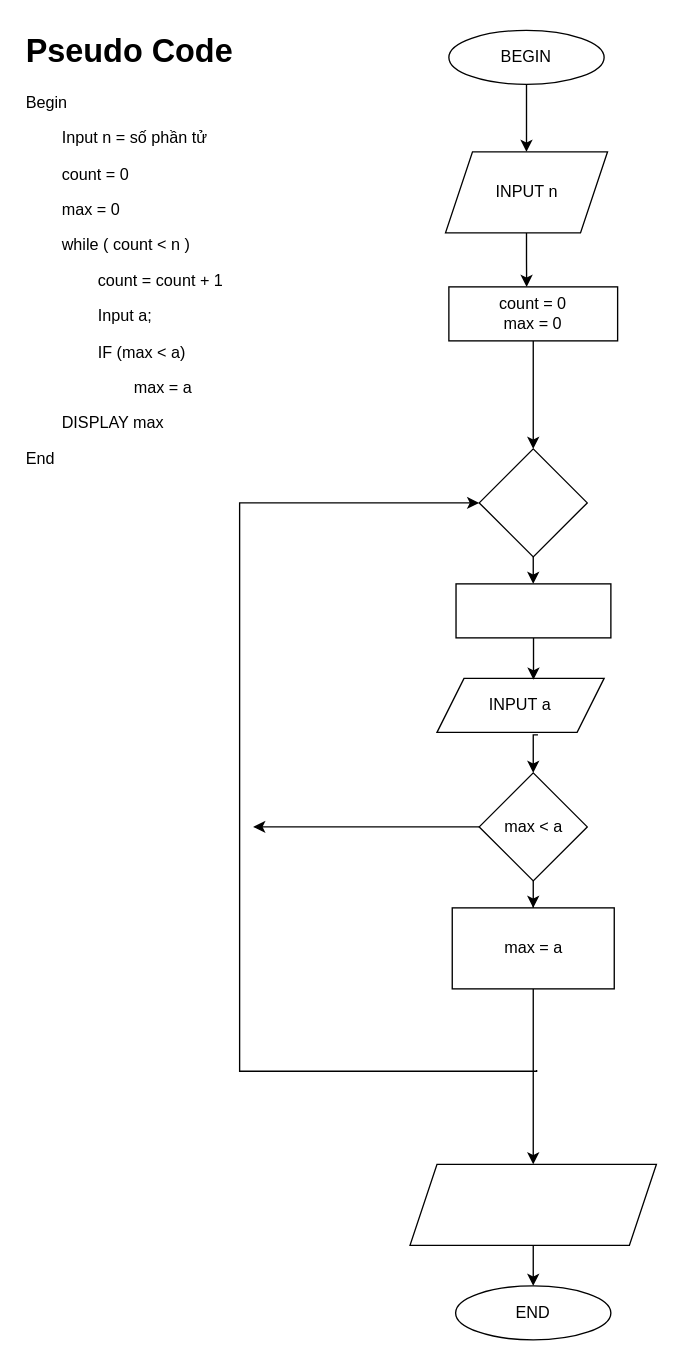
This 680x1364 diagram has some shape labels left out. The shapes that lost their labels are listed below. From the top down, each one's box as (x1, y1, x2, y2) in pixels, then its label:
(478, 448, 587, 557): count < n
(455, 583, 611, 638): count = count + 1
(409, 1163, 656, 1245): DISPLAY max
